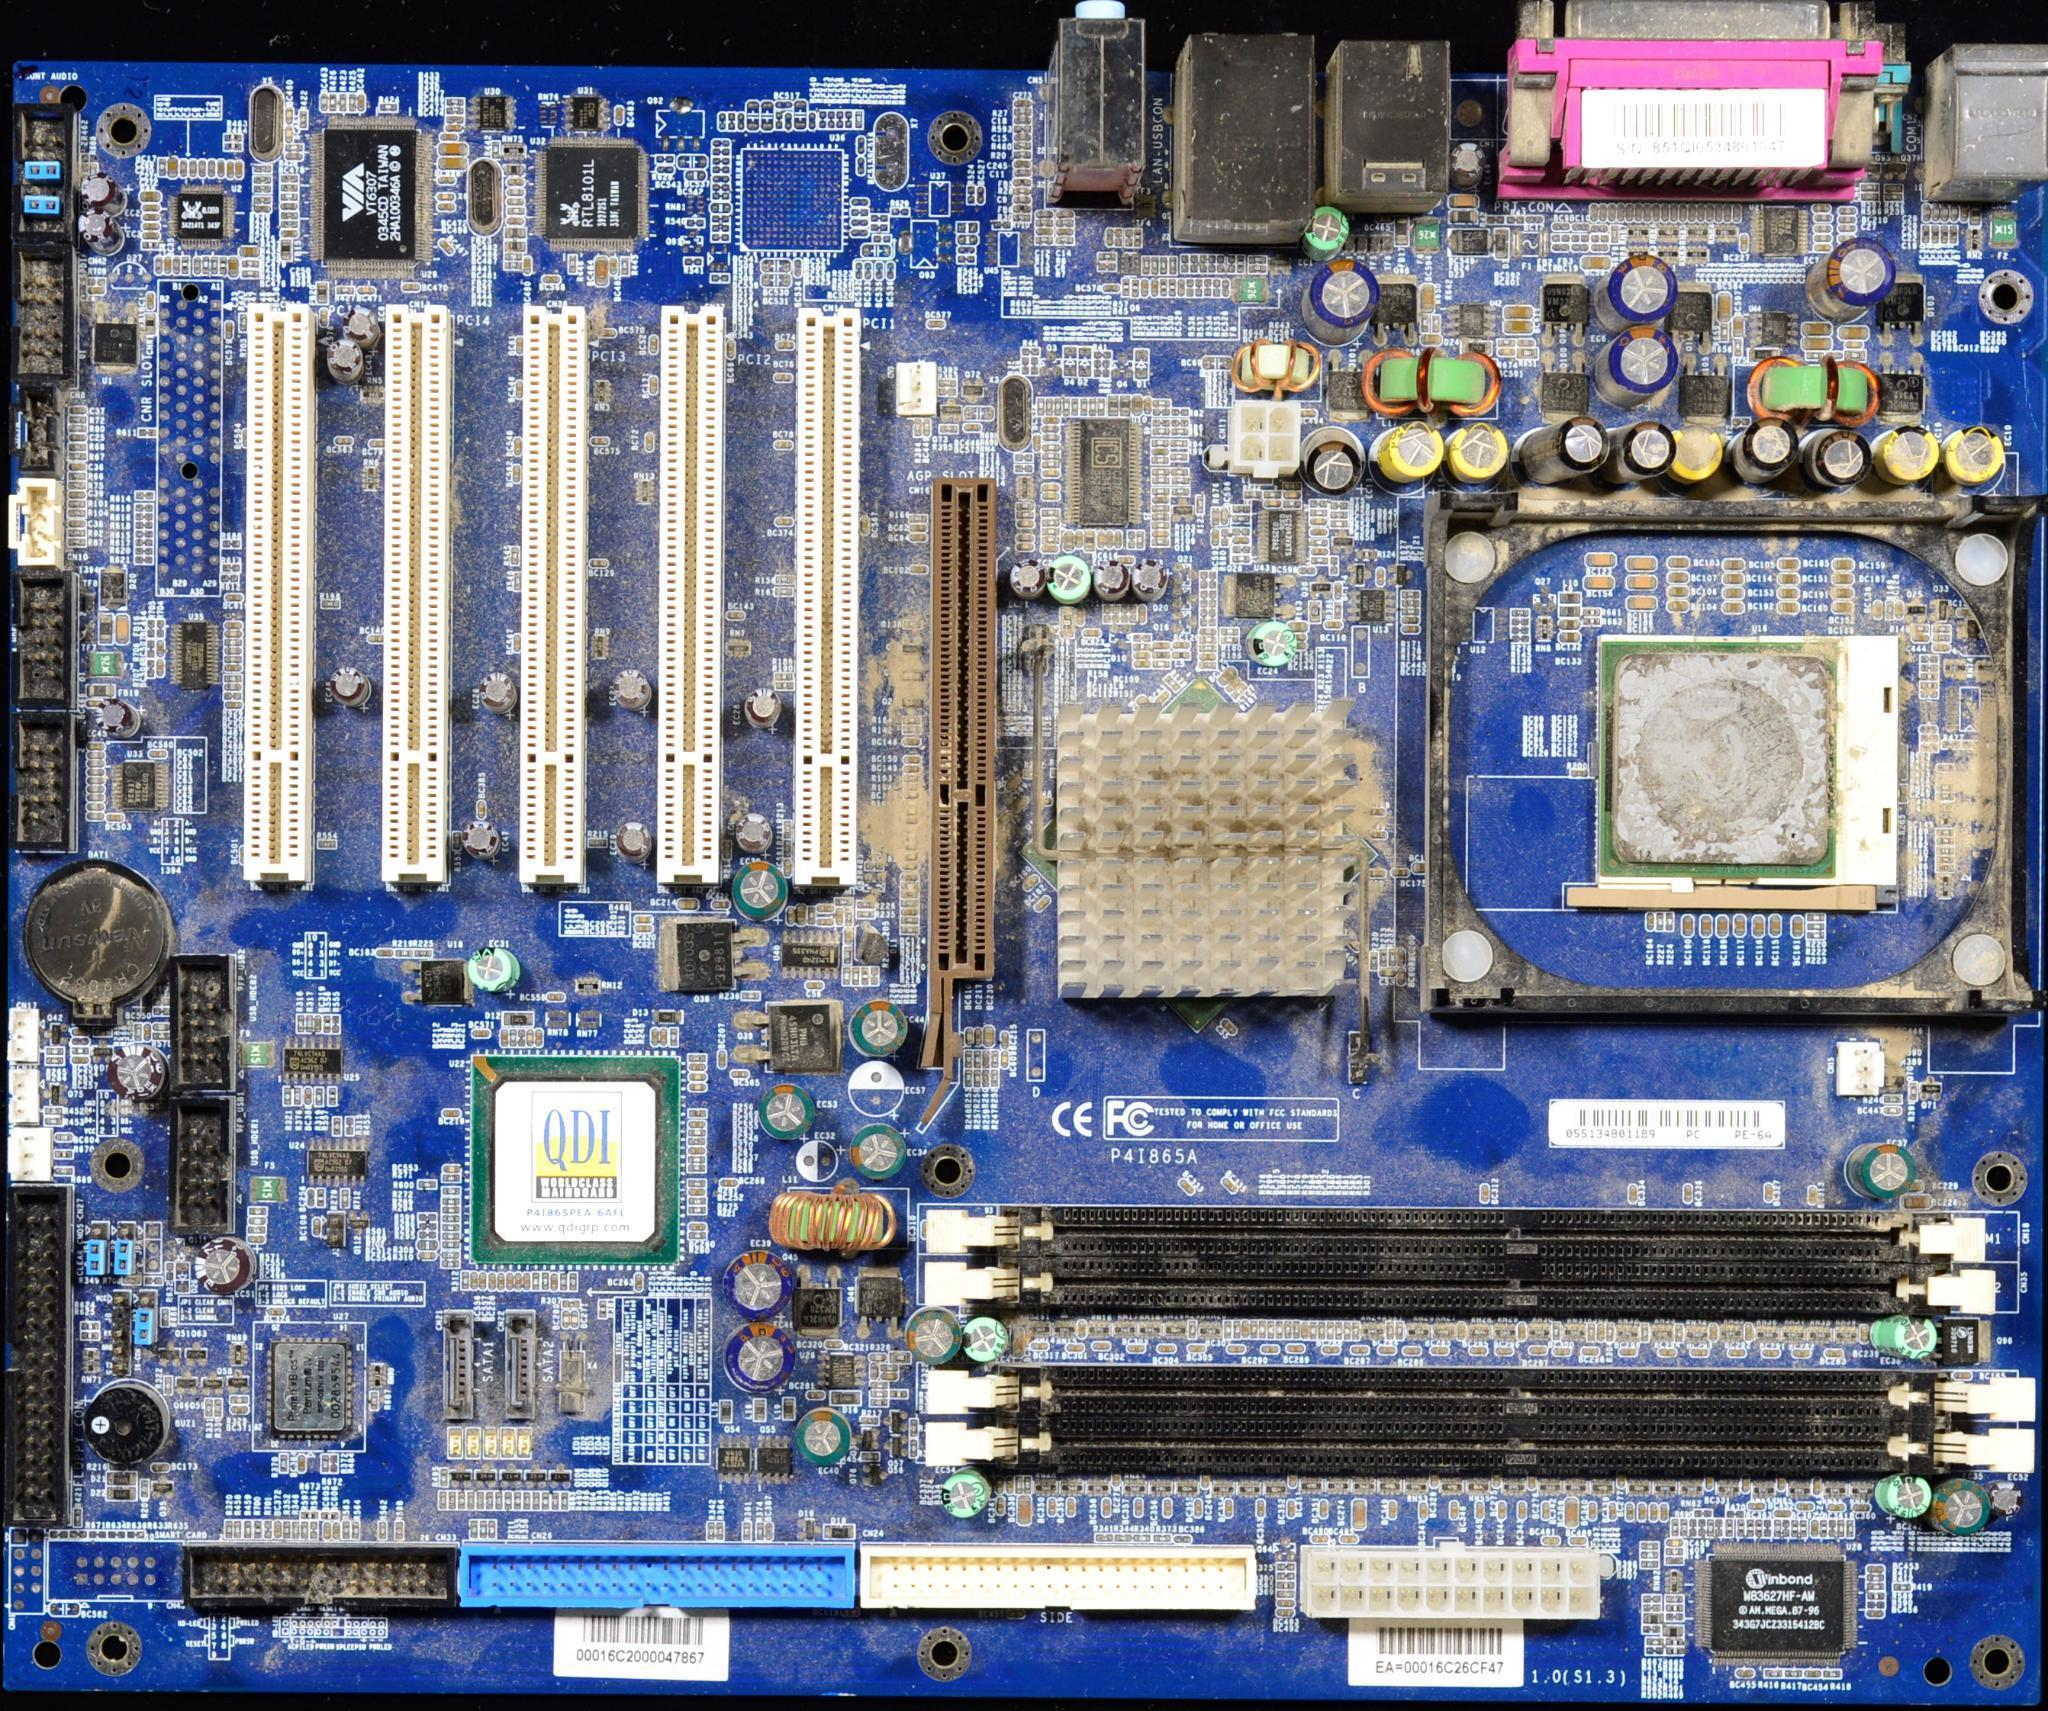Capacitor: (723, 1321, 792, 1393), (847, 1123, 909, 1183), (191, 1237, 257, 1292), (850, 999, 909, 1057), (111, 1043, 166, 1102), (757, 1083, 813, 1139), (469, 946, 517, 993), (1582, 574, 1616, 591), (1626, 594, 1657, 609), (1583, 552, 1617, 566), (1734, 913, 1745, 939), (1700, 915, 1713, 937), (1752, 913, 1764, 937), (1769, 915, 1781, 937), (1716, 915, 1729, 937), (1558, 618, 1580, 629), (442, 1107, 463, 1117), (823, 1338, 843, 1348), (443, 1164, 461, 1174), (230, 1403, 248, 1413), (688, 1071, 709, 1080), (313, 1216, 322, 1238), (514, 1271, 522, 1292), (523, 1271, 530, 1292), (1558, 632, 1580, 642), (1684, 913, 1693, 934), (1793, 915, 1802, 936), (471, 1029, 491, 1037), (649, 1027, 659, 1047), (689, 1083, 706, 1093), (688, 1188, 707, 1195), (550, 1272, 558, 1292), (106, 813, 124, 821), (375, 947, 393, 956), (500, 1029, 508, 1047), (718, 1049, 727, 1068), (72, 1055, 90, 1063), (731, 1069, 750, 1079), (719, 1179, 738, 1187), (688, 1221, 706, 1230), (472, 1271, 479, 1289), (265, 1306, 284, 1314), (570, 1309, 579, 1328), (561, 1310, 569, 1329), (806, 1390, 825, 1398), (151, 1461, 170, 1470), (633, 1274, 643, 1290), (1646, 912, 1655, 929), (143, 1023, 152, 1040), (687, 1063, 705, 1071), (687, 1119, 705, 1128), (54, 1132, 72, 1141), (688, 1146, 705, 1155), (488, 1273, 496, 1289), (497, 1273, 506, 1290), (323, 1521, 331, 1537), (332, 1521, 340, 1537), (304, 1085, 312, 1105), (507, 1272, 513, 1292), (297, 1453, 305, 1472), (148, 749, 167, 756), (248, 1235, 265, 1242), (418, 1252, 436, 1259), (479, 1272, 487, 1289), (880, 1372, 896, 1379), (662, 1028, 667, 1047), (314, 1014, 320, 1032), (87, 743, 106, 749), (275, 1519, 281, 1536)
Connector: (924, 1420, 2037, 1480), (919, 1256, 2003, 1314), (921, 1367, 2037, 1421), (919, 1206, 2013, 1256), (244, 300, 314, 886), (791, 304, 862, 891), (655, 301, 725, 888), (521, 301, 588, 885), (382, 302, 449, 883), (931, 472, 995, 983), (858, 1540, 1256, 1615), (459, 1539, 858, 1611), (5, 1178, 73, 1531), (182, 1543, 459, 1613), (170, 951, 238, 1094), (9, 241, 71, 382), (10, 103, 74, 238), (169, 1094, 232, 1232), (13, 567, 73, 709), (14, 712, 68, 852), (10, 381, 67, 476), (11, 477, 66, 567), (443, 1308, 476, 1419), (503, 1307, 535, 1419), (9, 1126, 54, 1179), (8, 1065, 43, 1126), (7, 1006, 39, 1063)
IC: (465, 1054, 685, 1269), (307, 112, 436, 282), (1695, 1540, 1860, 1669), (531, 136, 651, 255), (264, 1335, 354, 1441), (1061, 418, 1143, 527), (167, 182, 236, 248), (92, 302, 143, 385), (169, 611, 220, 691), (107, 755, 172, 814), (278, 1033, 345, 1086), (302, 1137, 372, 1187), (1254, 506, 1311, 565), (1747, 204, 1809, 258), (777, 928, 842, 979), (466, 92, 520, 133), (563, 93, 611, 136), (1444, 302, 1498, 338), (817, 1350, 864, 1389), (1749, 311, 1799, 346), (1351, 588, 1396, 623)
Resistor: (335, 284, 357, 297), (157, 157, 168, 178), (1821, 1667, 1842, 1679), (66, 507, 86, 519), (1581, 615, 1601, 627), (331, 1115, 342, 1137), (1040, 508, 1061, 518), (339, 1189, 350, 1207), (540, 1491, 551, 1510), (1231, 512, 1251, 523), (1332, 600, 1343, 619), (1664, 913, 1674, 933), (1806, 931, 1827, 940), (668, 1027, 679, 1047), (963, 1049, 973, 1069), (686, 1164, 706, 1174), (417, 1178, 437, 1189), (441, 1205, 461, 1214), (687, 1230, 707, 1240), (79, 1330, 99, 1340), (891, 1351, 911, 1361), (369, 1390, 379, 1410), (870, 1397, 889, 1406), (213, 1397, 222, 1417), (909, 1438, 918, 1458), (140, 1478, 149, 1498), (560, 1490, 569, 1511), (300, 1509, 320, 1519), (394, 1520, 404, 1541), (1783, 1668, 1803, 1678), (1055, 235, 1075, 245), (1141, 255, 1151, 275), (1159, 278, 1168, 297), (67, 480, 87, 489), (1194, 494, 1204, 514), (1234, 684, 1247, 699), (241, 259, 259, 270), (304, 1013, 314, 1032), (322, 1014, 331, 1033), (327, 1085, 337, 1104), (298, 111, 308, 130), (441, 1259, 459, 1268), (460, 1271, 469, 1290), (597, 1299, 607, 1318), (860, 1414, 880, 1424), (222, 142, 242, 152), (1023, 1475, 1033, 1494), (490, 140, 500, 158), (503, 1490, 513, 1509), (494, 1491, 503, 1510), (522, 1491, 533, 1510), (1670, 1518, 1680, 1537), (1725, 1518, 1735, 1537), (1845, 1518, 1856, 1537), (470, 1519, 479, 1538), (253, 1519, 263, 1538), (283, 1519, 292, 1537), (742, 1521, 752, 1540), (1151, 1533, 1171, 1542), (1764, 1669, 1783, 1678), (280, 174, 300, 183), (1011, 213, 1029, 222), (180, 256, 191, 275), (914, 417, 923, 436), (68, 441, 86, 450), (1041, 441, 1059, 450), (68, 470, 87, 480), (1152, 475, 1171, 485), (1152, 511, 1171, 521), (1137, 531, 1146, 550), (1400, 606, 1419, 615), (223, 653, 242, 664), (560, 1298, 582, 1307), (488, 1517, 496, 1539), (1096, 251, 1117, 260), (1230, 553, 1252, 562), (1569, 769, 1589, 777), (414, 947, 433, 956), (1379, 948, 1388, 967), (296, 1014, 305, 1034), (315, 1087, 323, 1107), (688, 1177, 707, 1186), (441, 1187, 461, 1195), (688, 1206, 707, 1215), (247, 1208, 267, 1216), (559, 1272, 568, 1292), (223, 134, 243, 143), (230, 1395, 250, 1403), (910, 1417, 918, 1437), (1013, 140, 1030, 150), (448, 1490, 456, 1510), (533, 1491, 542, 1509), (1772, 1518, 1783, 1536), (243, 1519, 252, 1539), (308, 1521, 318, 1538), (705, 1522, 715, 1540), (1865, 1573, 1885, 1582), (1646, 1637, 1663, 1646), (1883, 182, 1903, 190), (279, 211, 300, 220), (504, 261, 521, 270), (939, 425, 960, 433), (1169, 466, 1189, 475), (67, 498, 86, 507), (1017, 509, 1034, 518), (1040, 519, 1060, 527), (1040, 527, 1060, 535), (66, 527, 86, 536), (67, 537, 87, 546), (1582, 607, 1602, 615), (907, 514, 930, 521), (1806, 911, 1826, 920), (1655, 911, 1663, 930), (1806, 922, 1826, 930), (395, 948, 413, 956), (1369, 951, 1378, 970), (445, 97, 465, 106), (339, 93, 347, 112), (964, 1068, 973, 1087), (991, 1069, 1000, 1089), (293, 1086, 301, 1105), (1883, 1095, 1901, 1103), (446, 106, 465, 114), (855, 110, 864, 130), (442, 1195, 461, 1204), (440, 1250, 459, 1259), (541, 1270, 549, 1290), (569, 1273, 578, 1291), (889, 1388, 909, 1397), (204, 1399, 213, 1418), (280, 1452, 289, 1472), (439, 1468, 448, 1487), (476, 1490, 485, 1509), (486, 1491, 495, 1510), (439, 1491, 447, 1510), (513, 1492, 522, 1511), (1746, 1518, 1754, 1537), (1736, 1518, 1745, 1537), (1800, 1518, 1808, 1537), (1790, 1519, 1798, 1537), (225, 1519, 233, 1537), (263, 1520, 273, 1539), (233, 1520, 241, 1539), (291, 1520, 299, 1539), (351, 1520, 359, 1539), (716, 1521, 724, 1539), (756, 1521, 764, 1540), (300, 1521, 308, 1540), (1093, 1533, 1113, 1541), (1640, 1550, 1659, 1558), (1641, 1559, 1660, 1568), (1893, 1582, 1912, 1590), (1867, 1591, 1886, 1599), (1665, 1636, 1684, 1644), (280, 192, 300, 201), (1883, 192, 1901, 201), (1838, 204, 1857, 213), (1168, 255, 1177, 273), (241, 269, 260, 278), (1169, 278, 1177, 296), (1151, 400, 1170, 409), (68, 415, 86, 424), (68, 424, 86, 432), (1152, 427, 1171, 435), (1170, 451, 1189, 460), (1016, 502, 1035, 510), (1211, 505, 1220, 524), (1510, 607, 1529, 615), (1220, 626, 1239, 634), (1220, 634, 1239, 643), (1133, 642, 1152, 650), (1152, 660, 1170, 668), (223, 674, 242, 682), (1042, 431, 1058, 440), (378, 103, 399, 111), (1707, 1516, 1715, 1537), (329, 93, 337, 111), (442, 1223, 460, 1231), (442, 1240, 460, 1249), (457, 1491, 466, 1508), (551, 1491, 560, 1509), (342, 1521, 350, 1538), (1013, 150, 1031, 159), (1665, 1546, 1683, 1554), (1815, 213, 1832, 221), (1838, 216, 1855, 224), (1036, 217, 1053, 227), (280, 221, 297, 229), (504, 252, 521, 260), (1248, 255, 1266, 264), (211, 256, 219, 274), (1249, 265, 1266, 273), (1132, 277, 1139, 295), (1070, 397, 1078, 413), (1097, 396, 1105, 414), (1170, 427, 1188, 435), (1152, 538, 1169, 546), (1401, 591, 1419, 599), (688, 1197, 707, 1205), (532, 1271, 539, 1291), (80, 1321, 100, 1329), (467, 1490, 475, 1510), (320, 1511, 340, 1517), (1860, 183, 1879, 191), (1135, 228, 1142, 249), (68, 452, 88, 460), (1150, 504, 1170, 510), (223, 638, 243, 645), (1390, 948, 1396, 966), (974, 1050, 982, 1068), (991, 1050, 999, 1068), (974, 1070, 981, 1088), (284, 1086, 291, 1106), (1013, 109, 1033, 115), (687, 1155, 706, 1162), (442, 1215, 461, 1222), (442, 1232, 461, 1239), (1014, 124, 1033, 131), (285, 145, 305, 152), (1820, 1518, 1827, 1537), (1756, 1518, 1763, 1537), (1837, 1519, 1844, 1538), (479, 1519, 487, 1538), (379, 1521, 386, 1539), (1132, 1534, 1150, 1541), (1640, 1542, 1658, 1549), (1866, 1581, 1885, 1589), (1665, 1646, 1684, 1654), (1814, 224, 1832, 232), (1839, 225, 1858, 232), (1237, 254, 1244, 272), (1152, 255, 1158, 273), (219, 257, 227, 275), (1063, 397, 1070, 415), (1038, 397, 1044, 415), (1054, 397, 1061, 415), (1041, 461, 1059, 467), (1172, 486, 1191, 494), (1152, 487, 1170, 494), (348, 93, 356, 111), (871, 1390, 888, 1397), (322, 1454, 329, 1471), (1016, 1476, 1023, 1493), (1681, 1518, 1687, 1535), (1115, 1534, 1132, 1541), (280, 184, 298, 191), (1013, 188, 1031, 195), (1056, 217, 1074, 225), (1035, 236, 1052, 243), (154, 256, 162, 274), (203, 257, 209, 274), (1081, 397, 1088, 413), (1090, 398, 1097, 415), (1046, 398, 1053, 415), (1152, 438, 1169, 446), (1171, 438, 1188, 446), (1042, 452, 1060, 459), (1152, 467, 1169, 474), (1172, 476, 1189, 483), (1043, 536, 1060, 542), (1401, 599, 1419, 606), (316, 1190, 324, 1206), (871, 1381, 887, 1388), (1152, 522, 1172, 528), (1861, 194, 1880, 199), (442, 1175, 460, 1181), (1162, 256, 1167, 274), (1151, 457, 1168, 462), (1122, 279, 1128, 294)
Transistor: (661, 917, 773, 995), (736, 1001, 840, 1070), (1674, 352, 1736, 419), (853, 1266, 906, 1338), (1537, 349, 1591, 422), (1327, 349, 1377, 423), (1537, 272, 1591, 343), (1221, 570, 1297, 619), (1878, 274, 1927, 347), (1873, 353, 1926, 422), (1371, 272, 1418, 346), (795, 1265, 840, 1336), (401, 959, 471, 1005), (1669, 283, 1715, 349), (1933, 1316, 1993, 1364), (716, 1433, 753, 1484), (756, 1435, 793, 1483), (41, 1082, 72, 1106), (174, 1368, 199, 1395), (861, 1463, 888, 1488), (1387, 561, 1413, 586), (184, 1340, 210, 1365), (156, 1340, 182, 1365), (523, 1462, 547, 1489), (938, 398, 963, 423), (42, 1020, 69, 1045), (199, 1368, 223, 1395), (228, 1366, 251, 1392), (883, 1408, 908, 1432), (451, 1461, 474, 1487), (473, 1462, 498, 1487), (549, 1461, 572, 1488), (500, 1461, 523, 1489), (1347, 560, 1370, 587), (1918, 1076, 1942, 1101), (152, 1473, 174, 1499), (853, 1428, 879, 1449), (885, 1433, 907, 1458), (1309, 575, 1332, 599), (92, 1037, 113, 1063), (962, 379, 984, 404), (347, 1210, 367, 1233), (1333, 529, 1354, 552), (1173, 497, 1193, 522)
